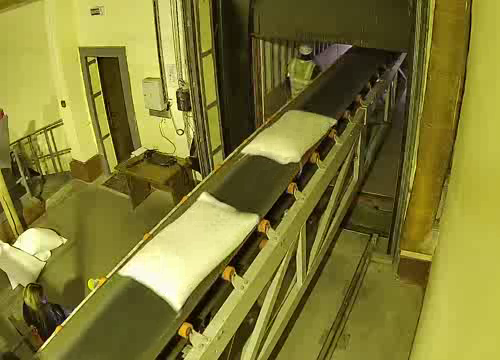bag: (108, 196, 283, 313), (236, 106, 349, 171)
